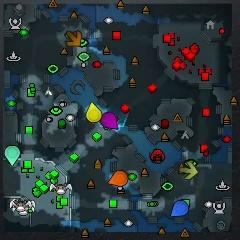p1: (170, 200, 189, 216)
p2: (4, 146, 20, 166)
p3: (100, 112, 118, 129)
p4: (85, 102, 102, 122)
p5: (107, 170, 128, 186)
x2: (179, 161, 198, 180)
x5: (66, 30, 82, 47)
